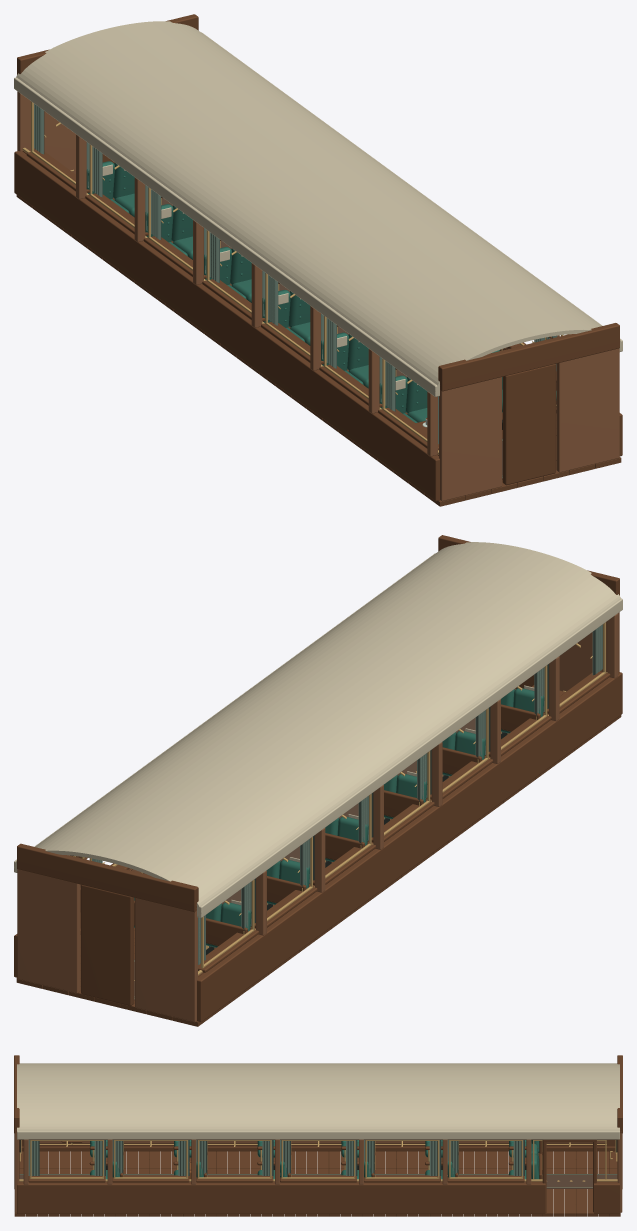
Rendered from NoDestination_Carriage.fbx.
3 renders of one model, top to bottom at view 1: azimuth 30°, elevation 25°; view 2: azimuth 150°, elevation 25°; view 3: azimuth 270°, elevation 25°, orthographic. The views are drawn at different scales.
Parts seen in each view (by area): view 1: Ceiling / shallow barrel vault, Wall / lower solid, Bulkhead / walnut panel.001, Bulkhead / walnut panel, Wall / cornice, Door / inset leaf, Bulkhead / pediment, Bulkhead / walnut panel.002, Window / oak pillar.003, Window / oak pillar.005, Window / oak pillar.001, Window / oak pillar (+3 smaller); view 2: Ceiling / shallow barrel vault, Wall / lower solid, Bulkhead / walnut panel.003, Bulkhead / walnut panel.002, Door / inset leaf.001, Wall / cornice, Bulkhead / pediment.001, Bulkhead / walnut panel, Window / oak pillar, Window / oak pillar.005, Window / oak pillar.003, Window / sill.006 (+3 smaller); view 3: Ceiling / shallow barrel vault, Wall / lower solid.002, Wall / cornice.001, Wall / lower solid, Continuous moulding, Aisle / inset carpet, Wall / lower solid.003, Window / sill.007, Continuous moulding.008, Window / sill.009, Window / sill.008, Window / sill.012 (+26 smaller).
Part boxes in pixels (x1=…): Ceiling / shallow barrel vault: x1=16, y1=21, x2=622, y2=392; Wall / lower solid: x1=14, y1=151, x2=439, y2=501; Bulkhead / walnut panel.001: x1=556, y1=348, x2=619, y2=472; Bulkhead / walnut panel: x1=439, y1=377, x2=501, y2=501; Wall / cornice: x1=14, y1=77, x2=439, y2=396; Door / inset leaf: x1=502, y1=364, x2=555, y2=485; Bulkhead / pediment: x1=438, y1=323, x2=619, y2=391; Bulkhead / walnut panel.002: x1=17, y1=91, x2=75, y2=174; Window / oak pillar.003: x1=251, y1=263, x2=262, y2=327; Window / oak pillar.005: x1=134, y1=177, x2=145, y2=242; Window / oak pillar.001: x1=368, y1=349, x2=379, y2=413; Window / oak pillar: x1=427, y1=391, x2=437, y2=456; Ceiling / shallow barrel vault: x1=14, y1=542, x2=620, y2=913; Wall / lower solid: x1=197, y1=672, x2=622, y2=1021; Bulkhead / walnut panel.003: x1=17, y1=869, x2=80, y2=993; Bulkhead / walnut panel.002: x1=135, y1=898, x2=197, y2=1022; Door / inset leaf.001: x1=81, y1=885, x2=134, y2=1005; Wall / cornice: x1=197, y1=598, x2=622, y2=917; Bulkhead / pediment.001: x1=17, y1=843, x2=198, y2=912; Bulkhead / walnut panel: x1=559, y1=612, x2=619, y2=691; Window / oak pillar: x1=607, y1=613, x2=618, y2=678; Window / oak pillar.005: x1=314, y1=828, x2=325, y2=892; Window / oak pillar.003: x1=431, y1=742, x2=442, y2=806; Window / sill.006: x1=198, y1=929, x2=258, y2=972; Ceiling / shallow barrel vault: x1=17, y1=1063, x2=619, y2=1130; Wall / lower solid.002: x1=17, y1=1182, x2=545, y2=1213; Wall / cornice.001: x1=17, y1=1131, x2=619, y2=1139; Wall / lower solid: x1=21, y1=1140, x2=615, y2=1151; Continuous moulding: x1=21, y1=1146, x2=615, y2=1150; Aisle / inset carpet: x1=19, y1=1174, x2=617, y2=1188; Wall / lower solid.003: x1=594, y1=1182, x2=619, y2=1213; Window / sill.007: x1=28, y1=1175, x2=105, y2=1182; Continuous moulding.008: x1=19, y1=1139, x2=617, y2=1139; Window / sill.009: x1=196, y1=1175, x2=273, y2=1182; Window / sill.008: x1=112, y1=1175, x2=189, y2=1182; Window / sill.012: x1=447, y1=1175, x2=524, y2=1182.
Bounding box in the file's own units: 464 × 345 × 1817.
